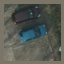car: (18, 24, 46, 44), (13, 6, 41, 25)
